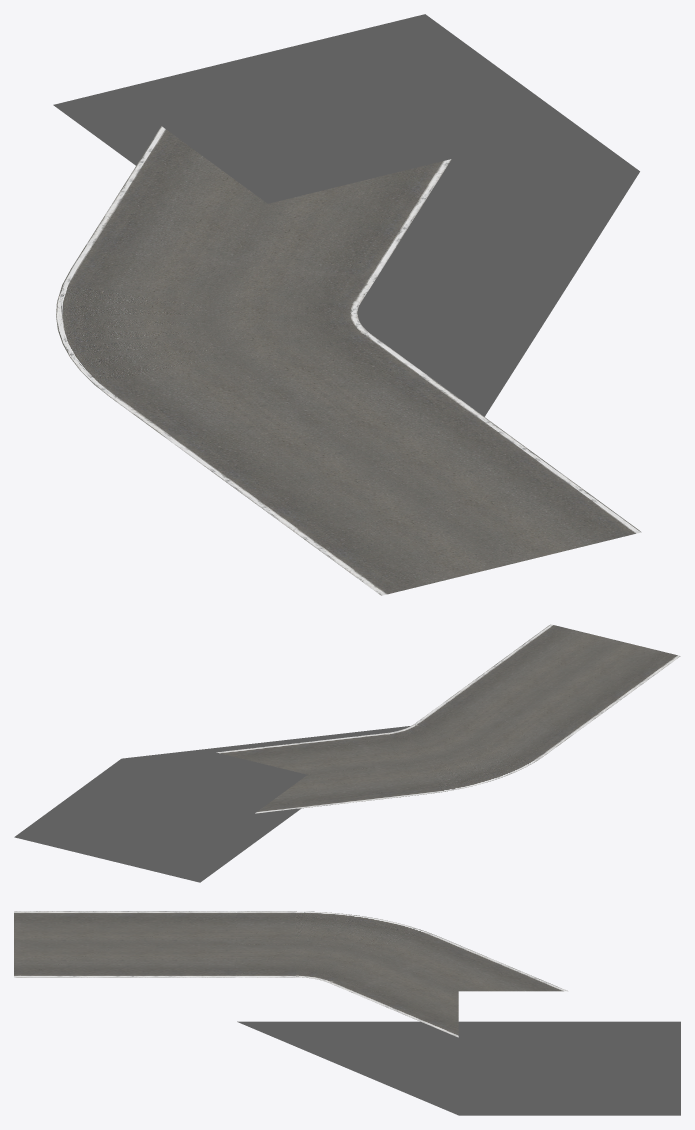
File: map10.obj
3 views of the same model, one above another, from view 1: azimuth 30°, elevation 25°; view 2: azimuth 150°, elevation 25°; view 3: azimuth 270°, elevation 25° (orthographic). The views are drawn at different scales.
Visible parts, largest first — view 1: map3.004_map3.005; view 2: map3.004_map3.005; view 3: map3.004_map3.005.
Boxes of the visible parts, bbox=[...] form: map3.004_map3.005: bbox=[53, 14, 641, 595]; map3.004_map3.005: bbox=[14, 624, 680, 882]; map3.004_map3.005: bbox=[14, 911, 680, 1115].
Size of the model in its own units: 9.34 by 0.7575 by 15.15.
3 materials, 1 textured.
